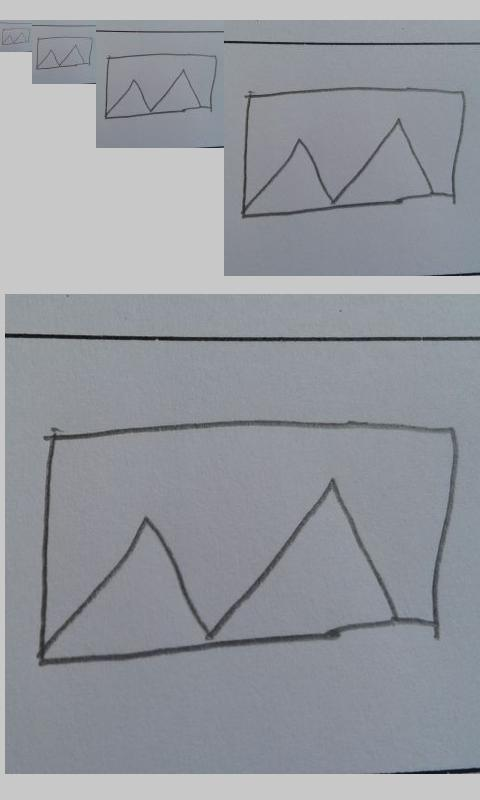image_view: (34, 418, 457, 667), (241, 86, 468, 220), (104, 52, 218, 120), (36, 36, 93, 70), (1, 27, 31, 46)
